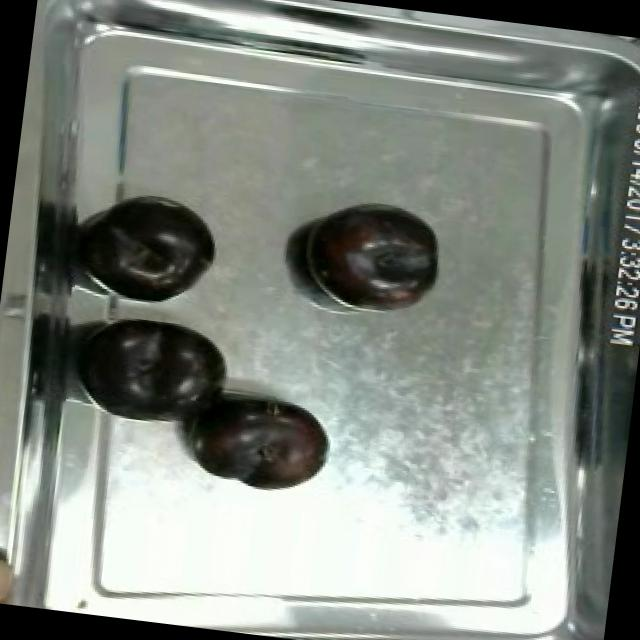Fruit: (68, 302, 240, 433), (177, 380, 343, 502), (295, 193, 449, 314), (88, 188, 226, 309), (0, 545, 36, 607)
